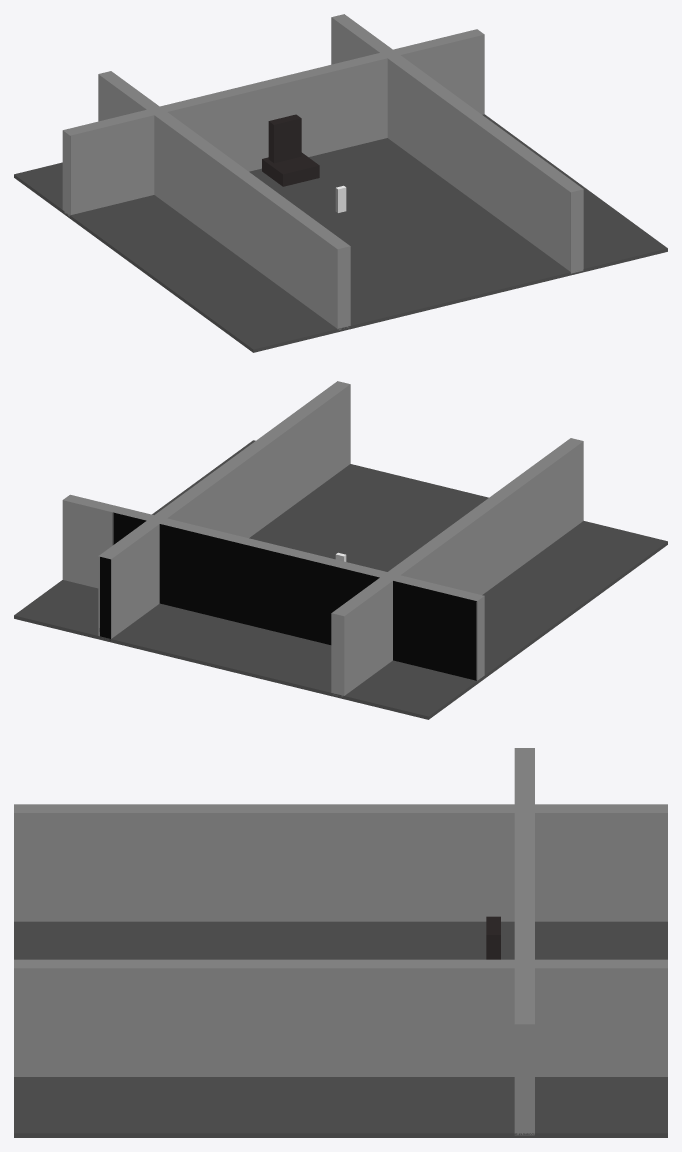
Rendered from court_environment.glb.
The picture shows the model from 3 angles, top to bottom: view 1: azimuth 30°, elevation 25°; view 2: azimuth 150°, elevation 25°; view 3: azimuth 270°, elevation 25°; orthographic projection. The views are drawn at different scales.
Visible parts, largest first — view 1: MeshInstance3D, MeshInstance3D3, MeshInstance3D4, MeshInstance3D2, MeshInstance3D6.001, MeshInstance3D5; view 2: MeshInstance3D, MeshInstance3D3, MeshInstance3D4, MeshInstance3D2; view 3: MeshInstance3D4, MeshInstance3D2, MeshInstance3D, MeshInstance3D3, MeshInstance3D6.001.
Part boxes in pixels (x1,y1,x2,y2): MeshInstance3D: (14,114,667,352); MeshInstance3D3: (62,29,484,216); MeshInstance3D4: (331,14,583,273); MeshInstance3D2: (98,71,350,330); MeshInstance3D6.001: (268,114,301,163); MeshInstance3D5: (262,152,319,186); MeshInstance3D: (14,440,667,719); MeshInstance3D3: (62,494,484,680); MeshInstance3D4: (98,381,350,640); MeshInstance3D2: (331,438,583,696); MeshInstance3D4: (14,959,667,1076); MeshInstance3D2: (14,804,667,921); MeshInstance3D: (14,921,667,1137); MeshInstance3D3: (514,748,534,1135); MeshInstance3D6.001: (486,916,500,959).
Bounding box in the file's own units: 32 × 6.38 × 32.
5 materials, 4 textured.
